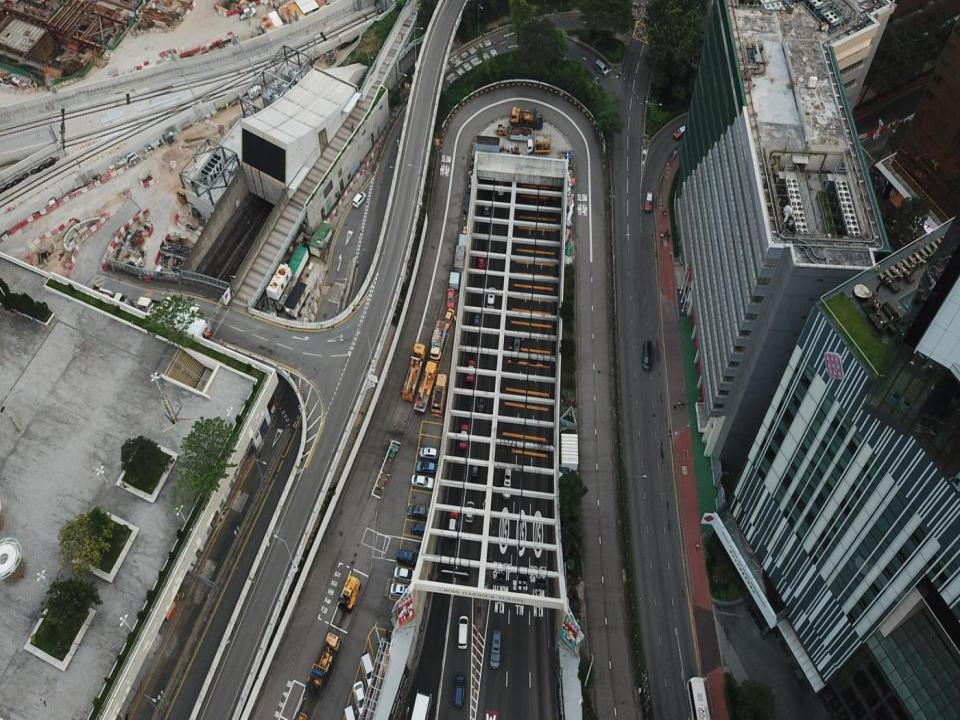bus: (687, 676, 710, 719), (410, 688, 432, 719)
car: (353, 680, 369, 715), (394, 566, 417, 583), (411, 474, 434, 490), (407, 504, 430, 519), (390, 583, 411, 599), (447, 509, 458, 539), (441, 307, 454, 331), (459, 423, 469, 449), (673, 124, 690, 139), (464, 500, 475, 522), (411, 521, 427, 535), (476, 250, 487, 269), (466, 359, 475, 382), (644, 191, 652, 212), (447, 288, 454, 310), (497, 177, 505, 196), (483, 198, 491, 215)
truck: (305, 631, 340, 698), (402, 342, 426, 401), (414, 360, 438, 411), (176, 171, 202, 204), (509, 107, 542, 130), (431, 373, 447, 417), (430, 319, 446, 362), (526, 130, 552, 154), (240, 7, 256, 21)
van: (361, 651, 379, 688), (490, 629, 501, 669), (457, 615, 469, 649), (453, 674, 465, 706), (397, 548, 419, 565), (415, 460, 437, 475), (469, 455, 480, 482), (502, 467, 511, 500), (595, 57, 608, 78), (419, 447, 438, 461), (642, 340, 651, 369), (512, 334, 520, 361), (476, 388, 484, 414), (353, 191, 366, 207), (487, 287, 496, 309), (472, 309, 481, 330), (344, 705, 355, 719)
